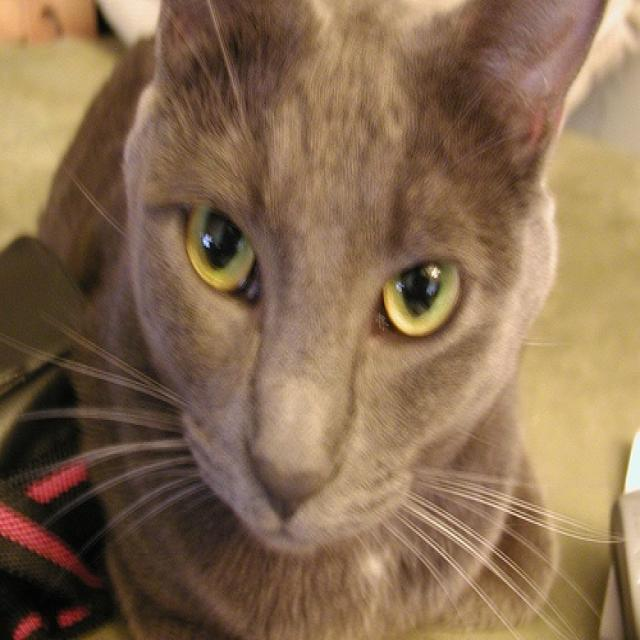cat: (42, 3, 613, 639)
